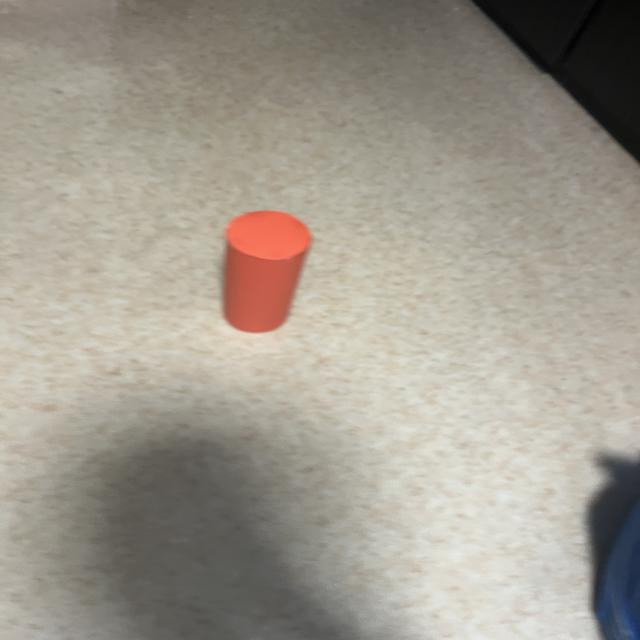przeszkoda: (223, 211, 312, 333)
